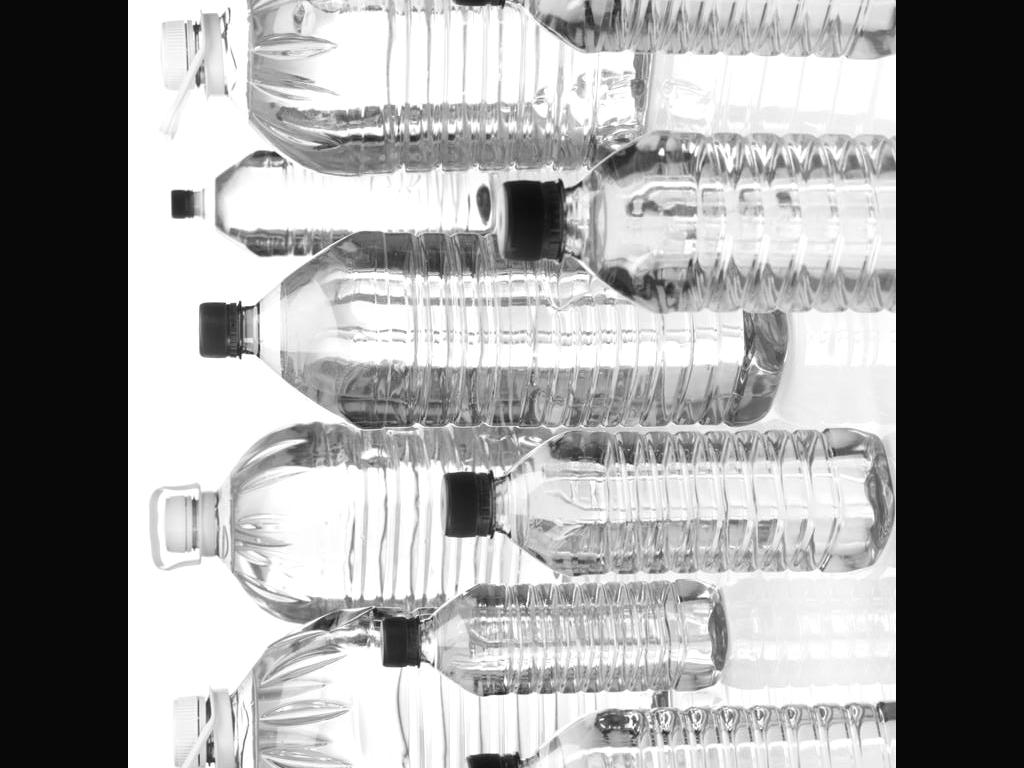bottle: (186, 222, 766, 418), (148, 0, 648, 175), (147, 424, 555, 622), (493, 120, 896, 318), (426, 416, 890, 584), (158, 616, 660, 768), (166, 138, 596, 262), (374, 580, 738, 694), (465, 697, 896, 768), (445, 0, 894, 63)
